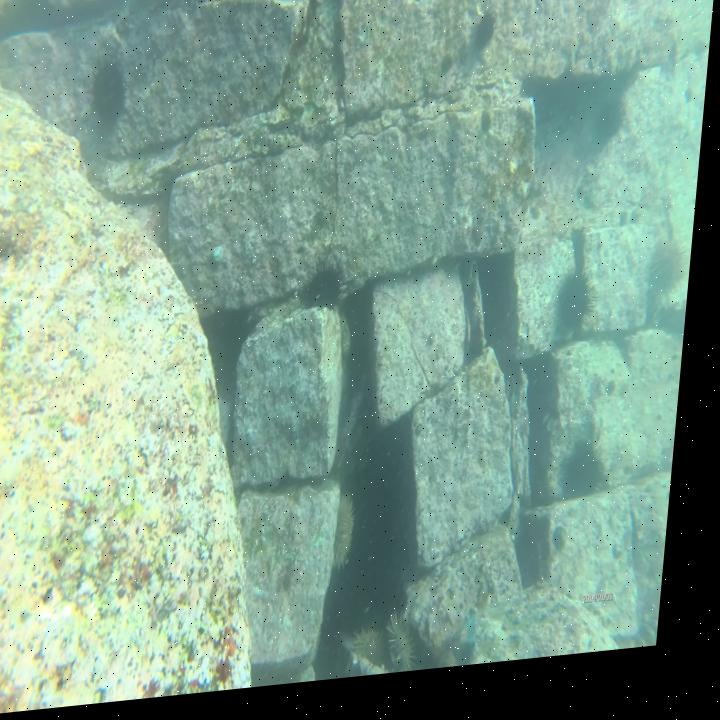echinus: (560, 275, 608, 350), (653, 243, 697, 314), (88, 57, 133, 126), (305, 267, 359, 321), (395, 611, 437, 680), (574, 449, 615, 516), (342, 498, 368, 581), (361, 627, 401, 676), (601, 106, 636, 157), (474, 11, 502, 61)
starfish: (448, 625, 493, 679)
